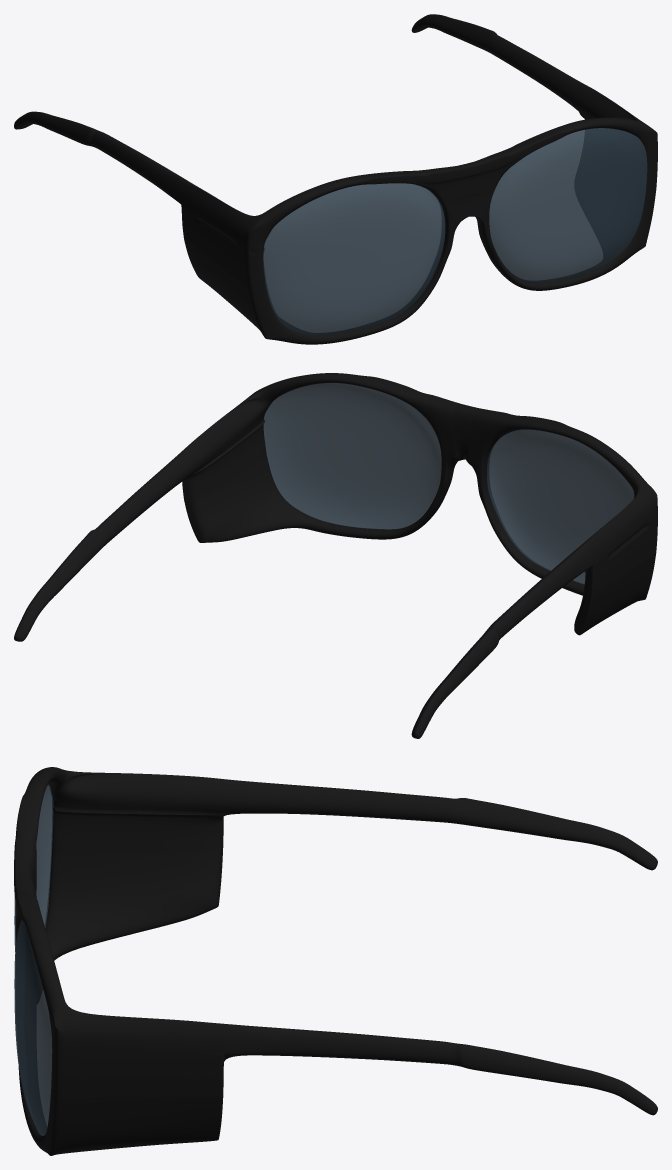
The model's file is sun_glass.glb.
The picture shows the model from 3 angles, top to bottom: view 1: azimuth 30°, elevation 25°; view 2: azimuth 150°, elevation 25°; view 3: azimuth 270°, elevation 25°; orthographic projection. The views are drawn at different scales.
Parts seen in each view (by area): view 1: wire_006135006, Material_002, Material_001; view 2: Material_002, wire_006135006, Material_001; view 3: Material_002, wire_006135006.
Part boxes in pixels (box(x1,y1,x2,y2)): wire_006135006: box(263, 128, 647, 335); Material_002: box(14, 14, 657, 344); Material_001: box(455, 160, 484, 222); Material_002: box(14, 373, 657, 738); wire_006135006: box(263, 383, 634, 584); Material_001: box(448, 403, 480, 470); Material_002: box(14, 767, 657, 1155); wire_006135006: box(14, 784, 53, 1135).
Bounding box in the file's own units: 6.59 × 2.46 × 7.06.
